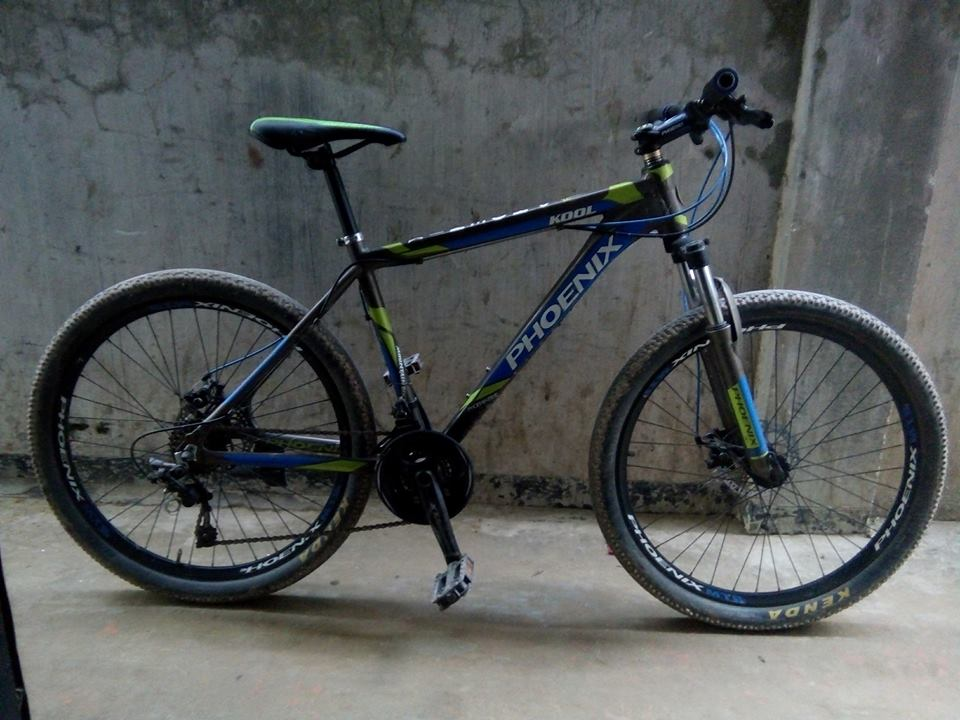bicycle: (26, 71, 945, 634)
